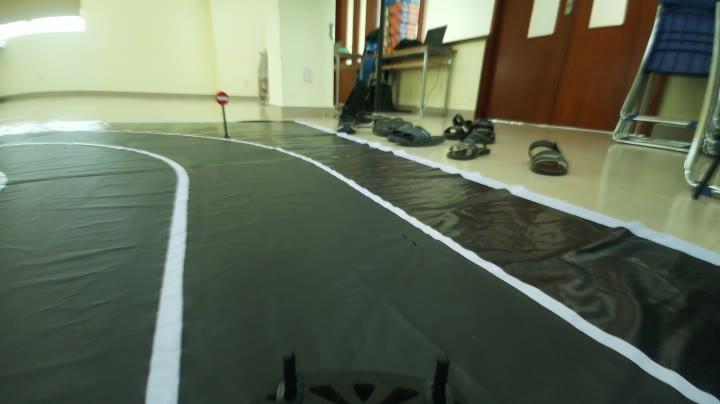no_entry: (211, 89, 233, 106)
